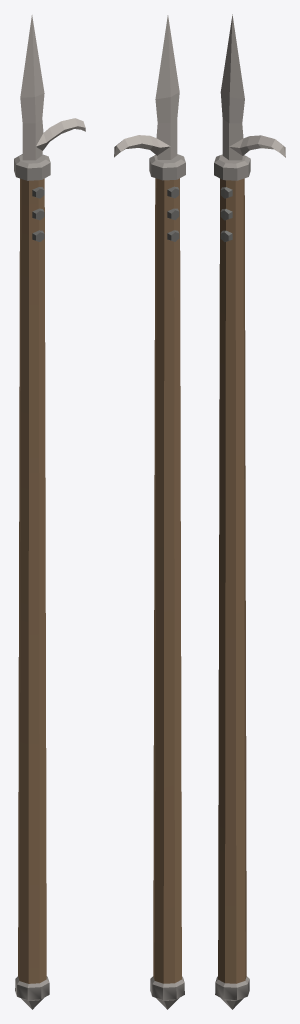
Rendered from SM_pwe_medieval_spear_07.fbx.
The picture shows the model from 3 angles, left to right: view 1: azimuth 30°, elevation 25°; view 2: azimuth 210°, elevation 25°; view 3: azimuth 330°, elevation 25°; orthographic projection.
Parts seen in each view (by area): view 1: SM_pwe_medieval_spear_07; view 2: SM_pwe_medieval_spear_07; view 3: SM_pwe_medieval_spear_07.
Boxes of the visible parts, <box> form: SM_pwe_medieval_spear_07: <box>14,15,85,1009</box>; SM_pwe_medieval_spear_07: <box>114,15,185,1009</box>; SM_pwe_medieval_spear_07: <box>214,14,285,1009</box>.
Bounding box in the file's own units: 13.45 × 183 × 6.31.
